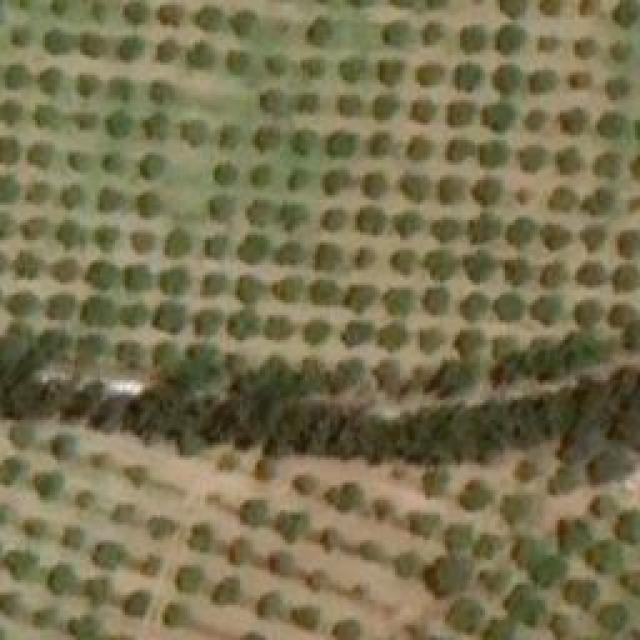Tree: (503, 583, 546, 626), (588, 448, 632, 484), (430, 555, 470, 593), (558, 517, 591, 555), (450, 598, 483, 633), (477, 103, 515, 133), (273, 510, 308, 540), (325, 483, 360, 513), (458, 480, 493, 510), (5, 550, 38, 580), (185, 520, 215, 553), (210, 575, 243, 605), (545, 465, 578, 495), (75, 331, 110, 358), (515, 540, 548, 568), (588, 545, 621, 573), (238, 498, 268, 528), (470, 213, 500, 243), (420, 253, 455, 278), (580, 188, 615, 213), (40, 328, 72, 355), (33, 472, 63, 500), (92, 540, 120, 570), (47, 433, 75, 463), (267, 548, 295, 578), (225, 537, 255, 565), (177, 563, 205, 593), (255, 590, 283, 620), (422, 468, 450, 498), (535, 555, 565, 583), (277, 203, 305, 233), (453, 62, 483, 90), (478, 140, 508, 168), (370, 92, 400, 120), (68, 613, 101, 638), (288, 605, 321, 630), (410, 510, 443, 535), (480, 617, 515, 640), (47, 565, 75, 593), (162, 600, 190, 628), (122, 590, 150, 618), (467, 252, 495, 280), (455, 330, 483, 358), (497, 25, 525, 53), (495, 65, 523, 93), (517, 145, 545, 173), (473, 535, 506, 558), (478, 570, 511, 593), (595, 113, 628, 136), (395, 553, 425, 578), (503, 493, 528, 523), (565, 580, 595, 605), (348, 285, 373, 315), (355, 208, 385, 233), (400, 175, 430, 200), (558, 108, 588, 133), (528, 68, 558, 93), (305, 15, 330, 45), (150, 343, 180, 368), (118, 343, 144, 371), (85, 577, 110, 605), (7, 423, 35, 448), (442, 525, 470, 550), (512, 458, 540, 483), (155, 305, 183, 330), (252, 128, 280, 153), (290, 130, 318, 155), (227, 313, 255, 338), (472, 178, 500, 203), (437, 178, 465, 203), (615, 230, 640, 258), (577, 228, 605, 253), (612, 0, 640, 25), (460, 25, 485, 53), (445, 100, 473, 125), (592, 153, 620, 178), (558, 147, 583, 175), (337, 58, 365, 83), (195, 3, 223, 28), (145, 515, 175, 538), (617, 512, 640, 542), (58, 220, 81, 250), (340, 323, 370, 346), (430, 218, 460, 241), (323, 170, 353, 193), (185, 340, 215, 362), (110, 503, 138, 526), (10, 293, 38, 316), (142, 115, 170, 138), (77, 33, 105, 56), (237, 238, 265, 261), (390, 247, 413, 275), (532, 298, 560, 321), (602, 75, 630, 98), (547, 188, 575, 211), (327, 133, 355, 156), (417, 63, 445, 86), (0, 458, 25, 483), (108, 110, 133, 135), (225, 50, 250, 75), (188, 40, 213, 65), (498, 295, 523, 320), (540, 263, 565, 288), (508, 220, 533, 245), (383, 23, 408, 48), (230, 10, 255, 35), (158, 0, 183, 25), (123, 0, 148, 25), (83, 300, 113, 320), (270, 280, 300, 300), (123, 465, 148, 488), (358, 538, 383, 561), (545, 615, 568, 640), (603, 605, 626, 630), (48, 295, 73, 318), (15, 255, 40, 278), (28, 143, 53, 166), (5, 65, 30, 88), (120, 35, 145, 58), (180, 120, 205, 143), (213, 163, 238, 186), (250, 200, 273, 225), (378, 325, 403, 348), (418, 330, 443, 353), (310, 280, 335, 303), (315, 245, 338, 270), (615, 265, 638, 290), (578, 263, 603, 286), (543, 225, 568, 248), (408, 138, 433, 161), (380, 60, 403, 85), (308, 568, 330, 594), (373, 495, 393, 523), (0, 100, 22, 125), (168, 233, 191, 256), (128, 265, 151, 288), (138, 193, 161, 216), (60, 188, 83, 211), (45, 30, 68, 53), (210, 195, 233, 218), (205, 235, 228, 258), (238, 278, 261, 301), (203, 273, 226, 296), (195, 313, 218, 336), (385, 290, 408, 313), (398, 210, 421, 233), (463, 295, 486, 318), (578, 303, 601, 326), (413, 100, 436, 123), (368, 133, 391, 156), (0, 592, 22, 615), (497, 0, 525, 18), (63, 525, 83, 550), (53, 260, 78, 280), (23, 183, 48, 203), (40, 68, 60, 93), (275, 243, 300, 263), (265, 318, 290, 338), (508, 258, 528, 283), (523, 110, 548, 130), (338, 95, 363, 115), (23, 518, 46, 538), (140, 553, 160, 576), (318, 528, 338, 551), (255, 460, 278, 480), (335, 620, 358, 640), (93, 265, 116, 285), (140, 155, 163, 175), (33, 105, 56, 125), (150, 83, 173, 103), (155, 40, 175, 63), (265, 93, 288, 113), (305, 323, 328, 343), (323, 210, 346, 230), (363, 175, 386, 195), (610, 305, 633, 325), (610, 40, 633, 60), (568, 70, 591, 90), (573, 38, 596, 58), (448, 140, 471, 160), (420, 23, 443, 43), (123, 305, 148, 323), (163, 272, 188, 290), (0, 138, 18, 163), (33, 607, 56, 625), (295, 475, 318, 493), (622, 573, 640, 596), (97, 228, 115, 251), (300, 60, 323, 78), (288, 170, 311, 188), (578, 0, 601, 18), (133, 233, 153, 253), (98, 190, 118, 210), (78, 75, 98, 95), (220, 128, 240, 148), (425, 290, 445, 310), (353, 248, 373, 268), (73, 490, 93, 508), (218, 452, 238, 470), (205, 492, 225, 510), (405, 620, 423, 640), (595, 497, 615, 515), (23, 220, 43, 238), (100, 152, 120, 170), (110, 80, 130, 98), (265, 57, 285, 75), (298, 92, 318, 110), (252, 165, 270, 185), (345, 583, 368, 598), (0, 178, 15, 201), (73, 113, 96, 128), (538, 35, 561, 50), (538, 0, 561, 15), (90, 453, 110, 468), (68, 153, 88, 168), (10, 30, 28, 45), (625, 195, 640, 213), (512, 188, 530, 203), (50, 0, 65, 18), (90, 0, 105, 18)
